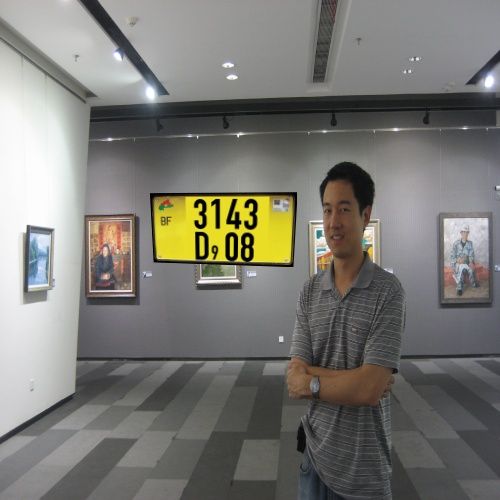plate: (137, 182, 309, 271)
